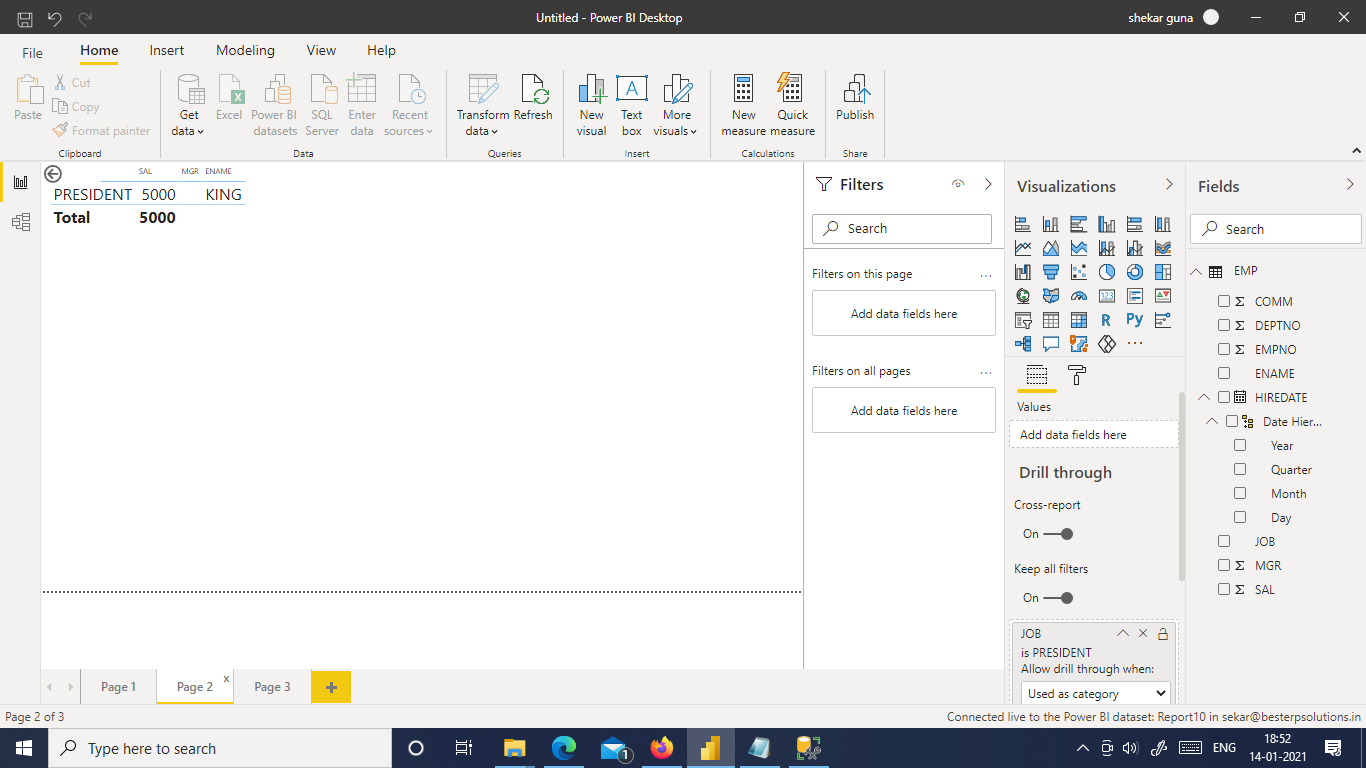

What the dashboard file says about the page in this screenshot:
{"tool":"powerbi","page":{"name":"Page 2","canvas":[1280,720],"ordinal":1},"visuals":[{"type":"tableEx","fields":{"Values":["EMP.JOB","EMP.ENAME","EMP.DEPTNO","Sum(EMP.SAL)"]},"box":[10.1,0,1122.1,646.7],"z":0},{"type":"actionButton","box":[0,0,100,40],"z":1}]}

Visuals, with their boxes on the page's 1280x720 design canvas (x1, y1, x2, y2). These are canvas units, not pixel positions in the 1366x768 screenshot, which may show the page scaled, cropped or inside an application window:
tableEx - EMP.JOB x EMP.ENAME: box=[10, 0, 1132, 647]
actionButton: box=[0, 0, 100, 40]
